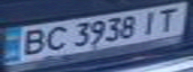3: (69, 20, 90, 48), (103, 16, 124, 43)
8: (118, 12, 142, 39)
9: (87, 18, 109, 46)
B: (15, 27, 51, 57)
C: (39, 24, 72, 53)
I: (136, 8, 163, 36)
T: (151, 4, 187, 34)
